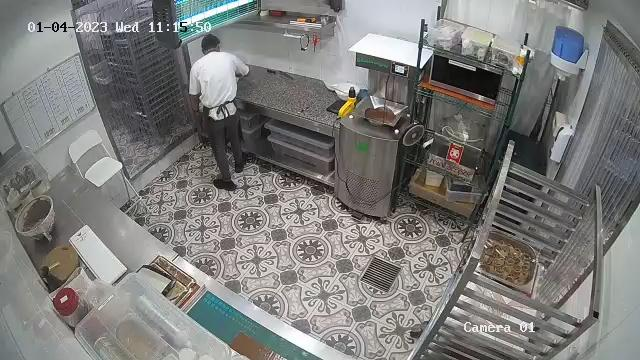apron: (198, 89, 240, 120)
